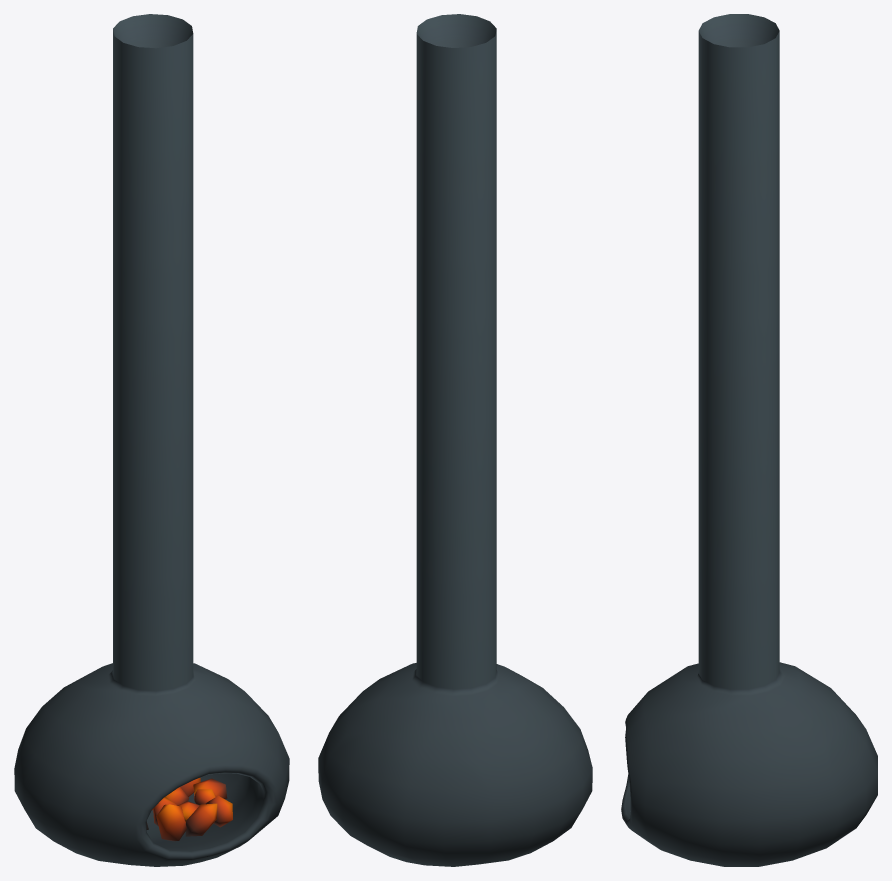
File: Fireplace_15.glb
3 views of the same model, side by side, from view 1: azimuth 30°, elevation 25°; view 2: azimuth 150°, elevation 25°; view 3: azimuth 270°, elevation 25° (orthographic).
Visible parts, largest first — view 1: Fireplace_15; view 2: Fireplace_15; view 3: Fireplace_15.
Part boxes in pixels (x1,y1,x2,y2): Fireplace_15: (14, 14, 289, 866); Fireplace_15: (318, 14, 592, 866); Fireplace_15: (621, 14, 877, 866).
Bounding box in the file's own units: 0.6992 × 2.3 × 0.6584.
1 material, 1 textured.
